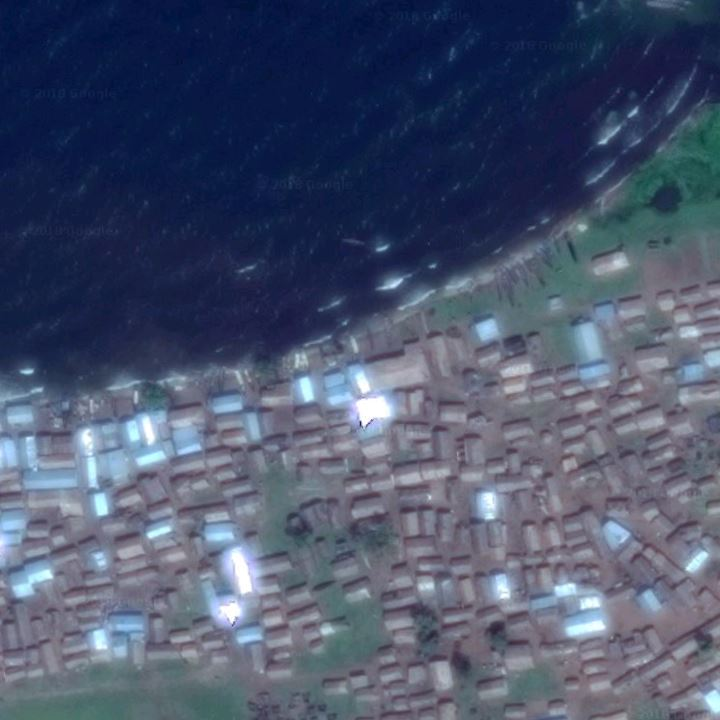boat: (525, 256, 551, 288), (564, 228, 584, 269), (189, 368, 211, 404), (129, 377, 147, 421), (56, 387, 72, 432), (381, 314, 399, 352), (229, 364, 249, 398), (532, 248, 559, 271), (249, 363, 268, 395), (502, 265, 516, 308), (417, 302, 435, 334), (541, 235, 563, 260), (238, 363, 255, 395), (69, 392, 84, 428), (96, 387, 110, 424), (111, 384, 123, 423), (517, 261, 533, 289), (86, 387, 97, 426), (300, 346, 314, 376), (507, 263, 524, 287), (365, 324, 377, 356), (492, 270, 503, 303), (347, 334, 362, 358), (208, 365, 217, 404), (218, 360, 227, 398), (293, 349, 301, 381)
